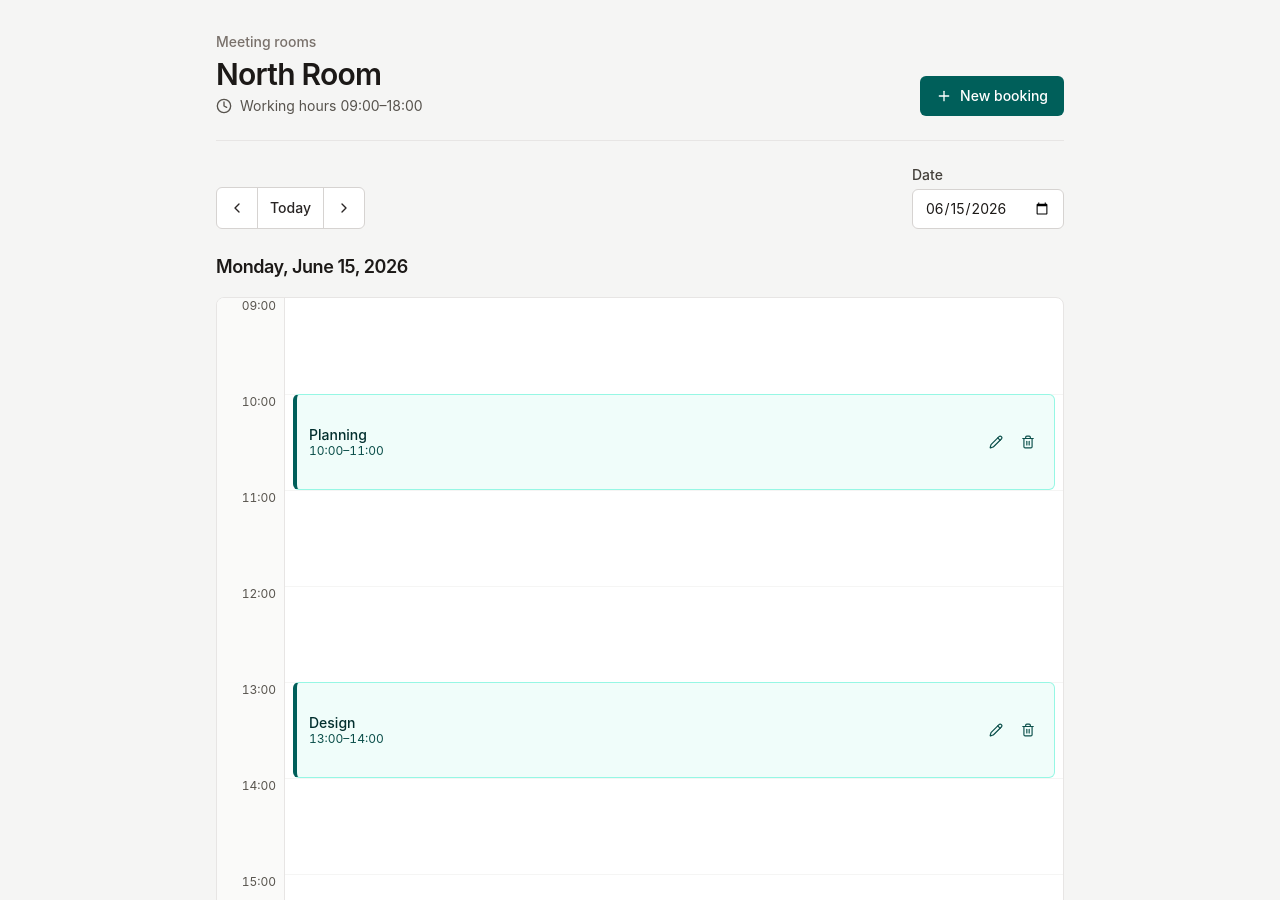
Test: booking form › rejects an edit that overlaps a different booking
The image size is (1280, 900).
Expected: the text "Planning" is shown, [309,426,367,443]
Click the button named "Edit Planning, 10:00–11:00".
click(996, 442)  # box [982,428,1010,456]
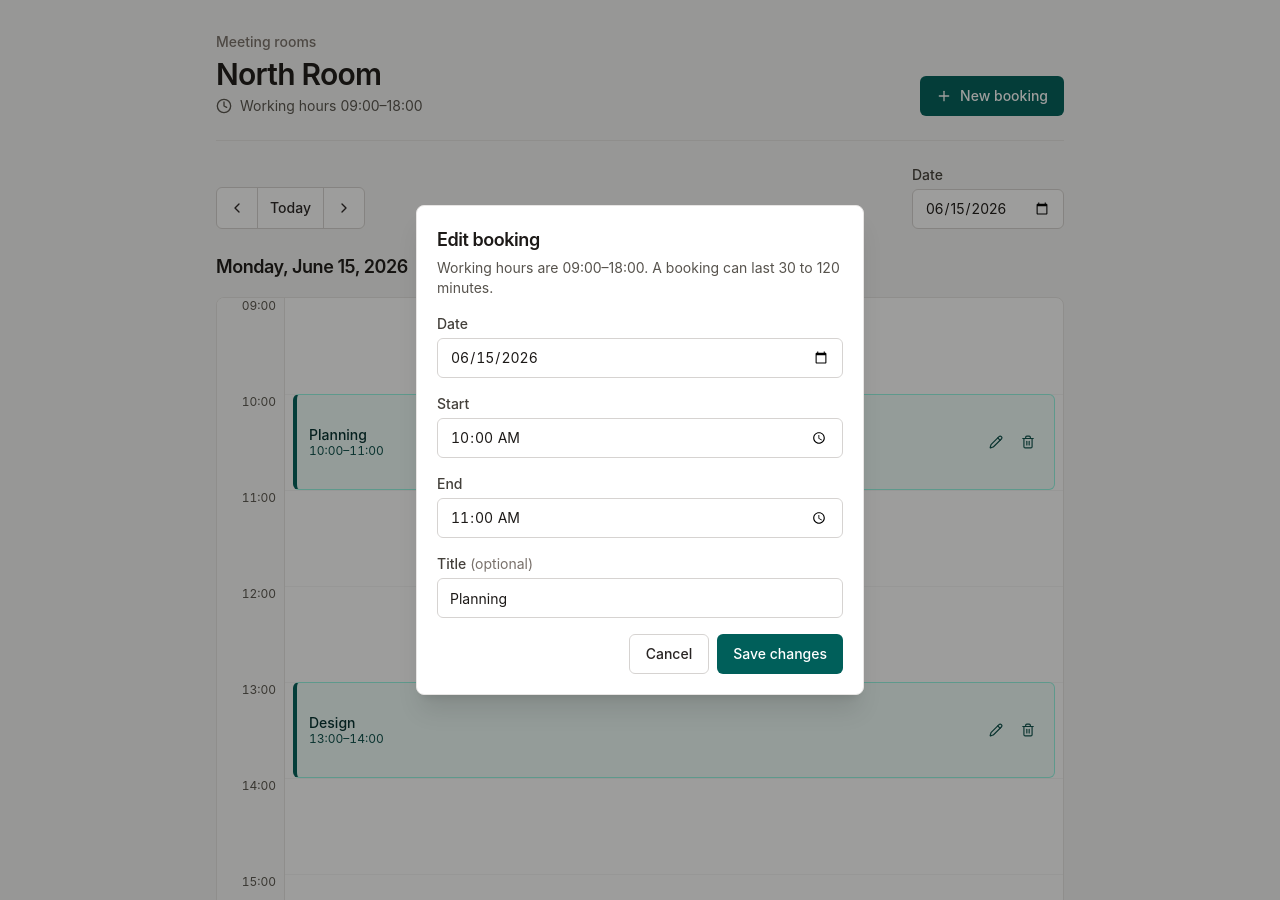
Replace the text in the time field labelled "Start" with "13:00" at (640, 438), box [437,418,843,458]
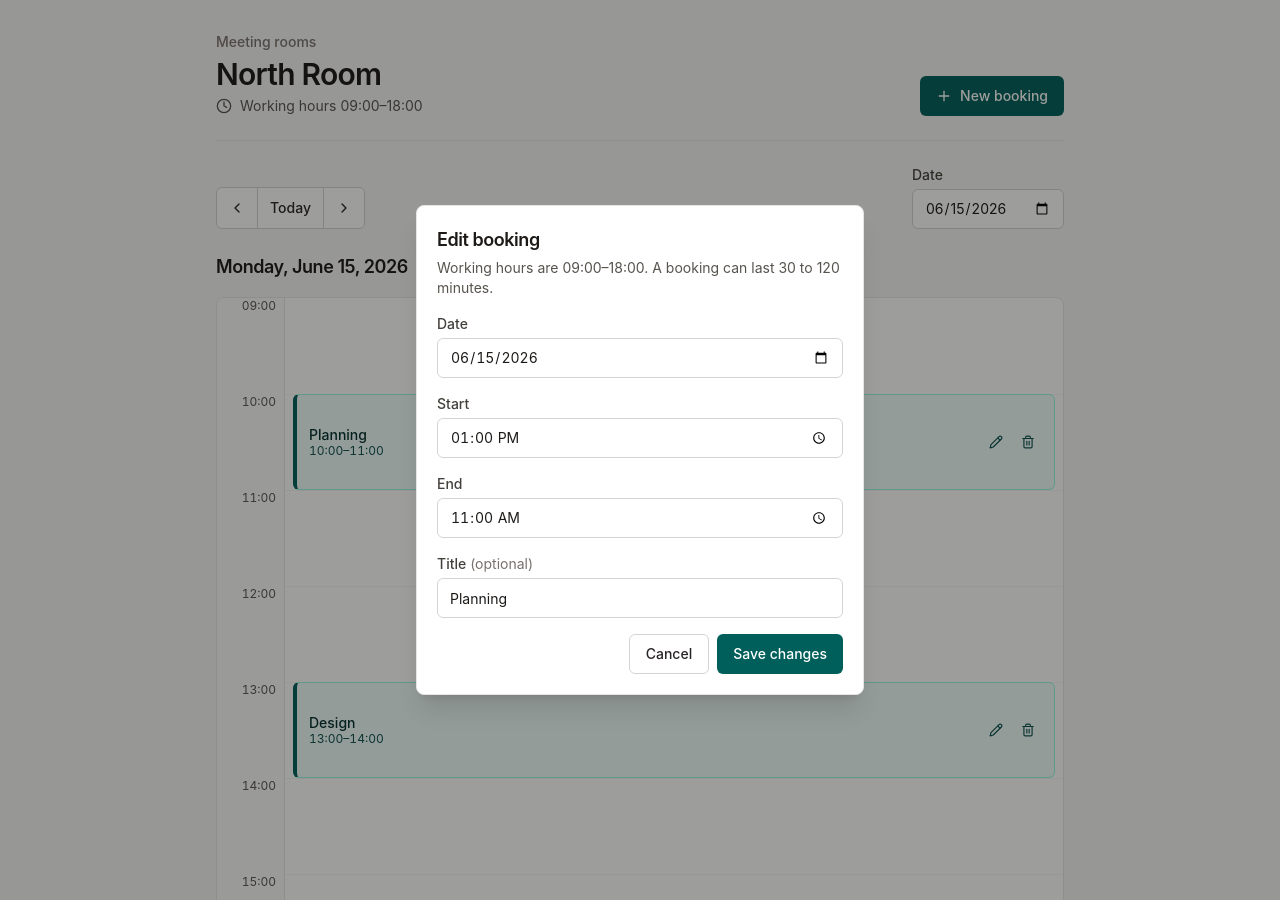
Replace the text in the time field labelled "End" with "14:00" at (640, 518), box [437,498,843,538]
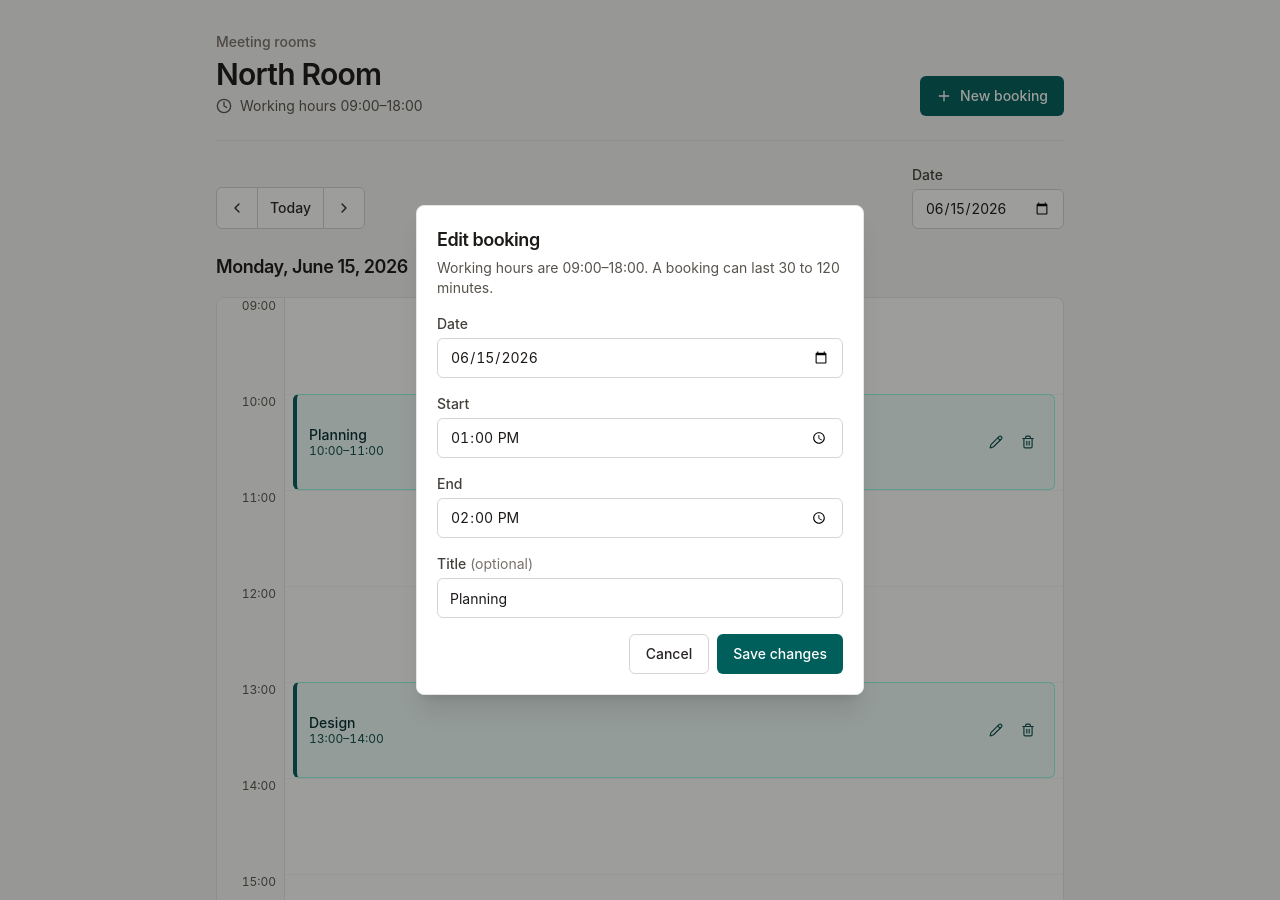
Click the button "Save changes".
click(780, 654)  # box [717,634,843,674]
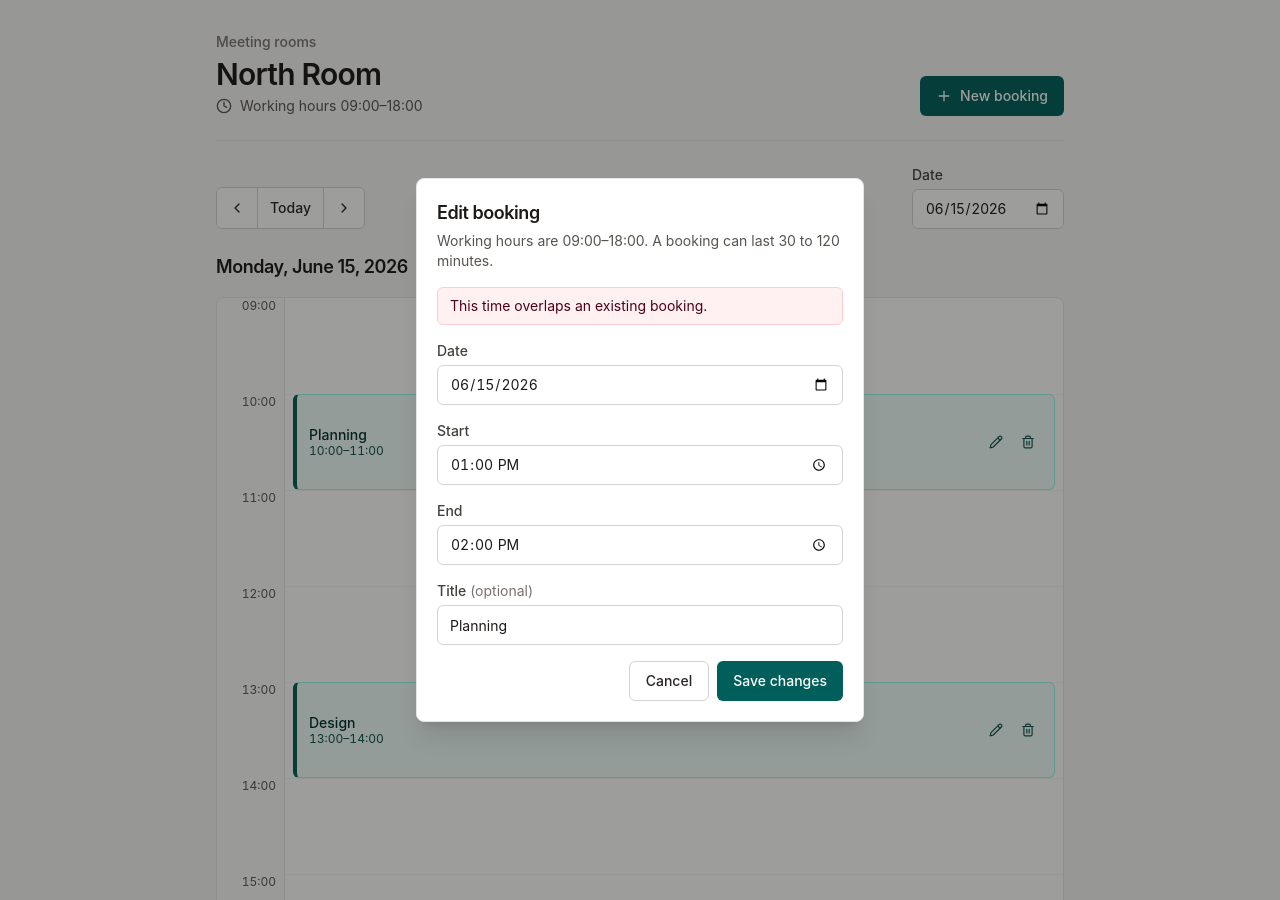
Expected: the text "Planning" is shown, [309,426,367,443]
Now the message reads "This time overlaps an existing booking.", box [450,297,707,314]
